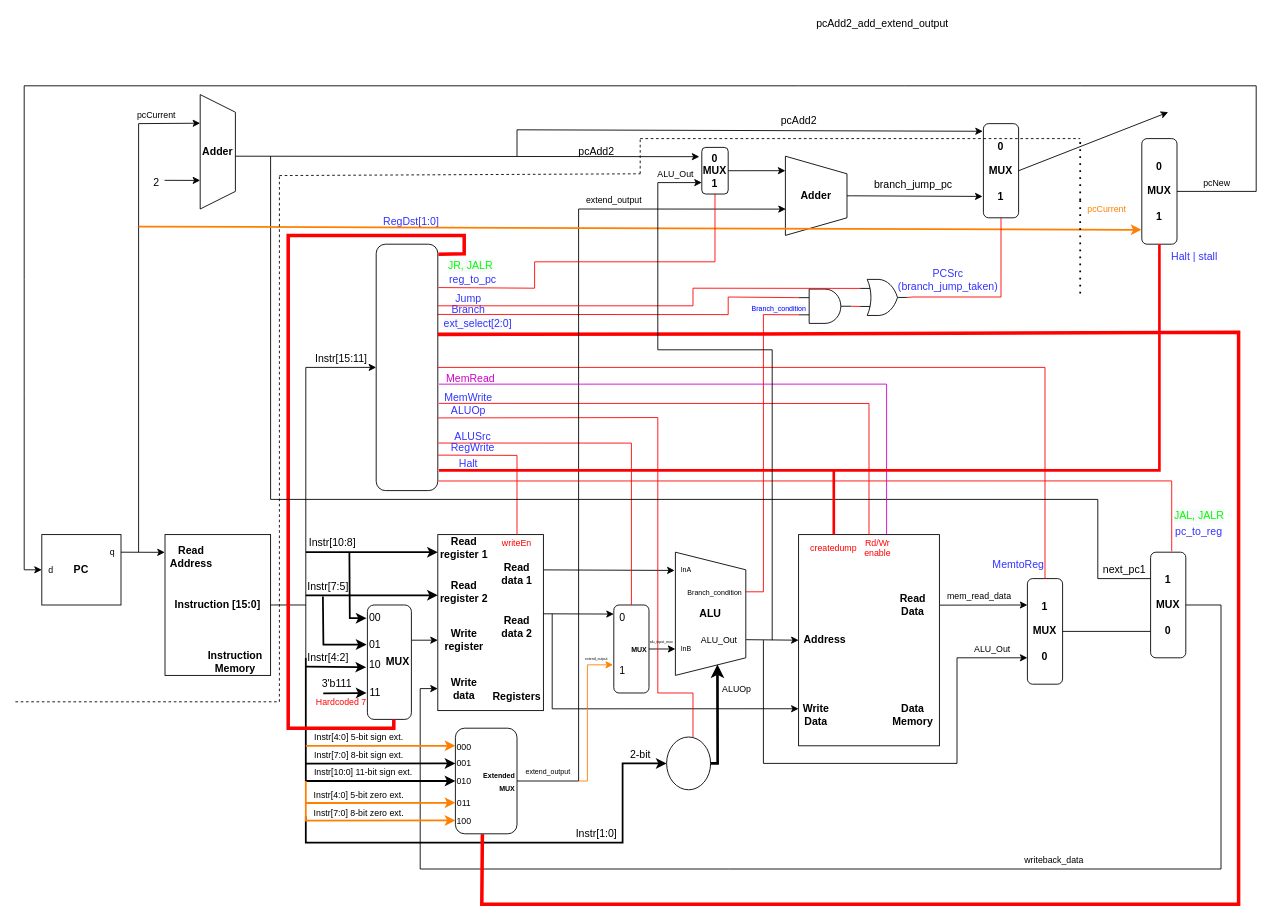
The diagram is 1279 pixels wide and 921 high, and some of its shapes have lost their labels. The shapes that lost their labels are listed below. From the top down, each one's centre as x and y in pixels, then its label:
At (x=406, y=367): "Control".
At (x=688, y=763): "ALU control".
